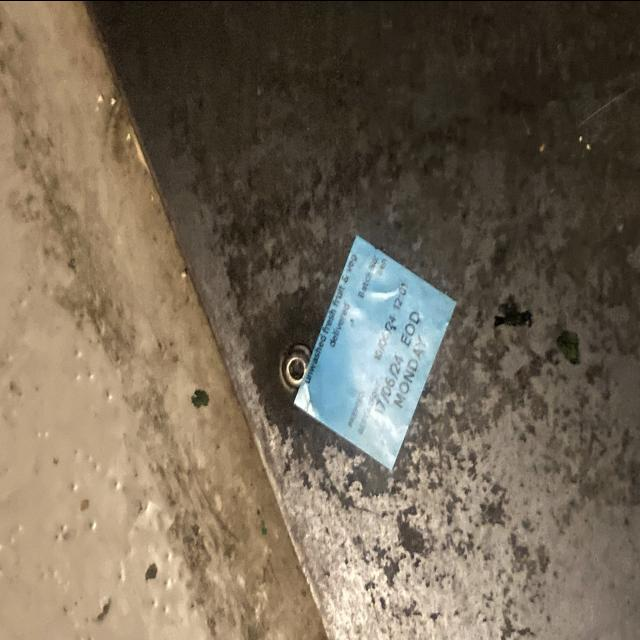product-labels: (283, 236, 465, 467)
